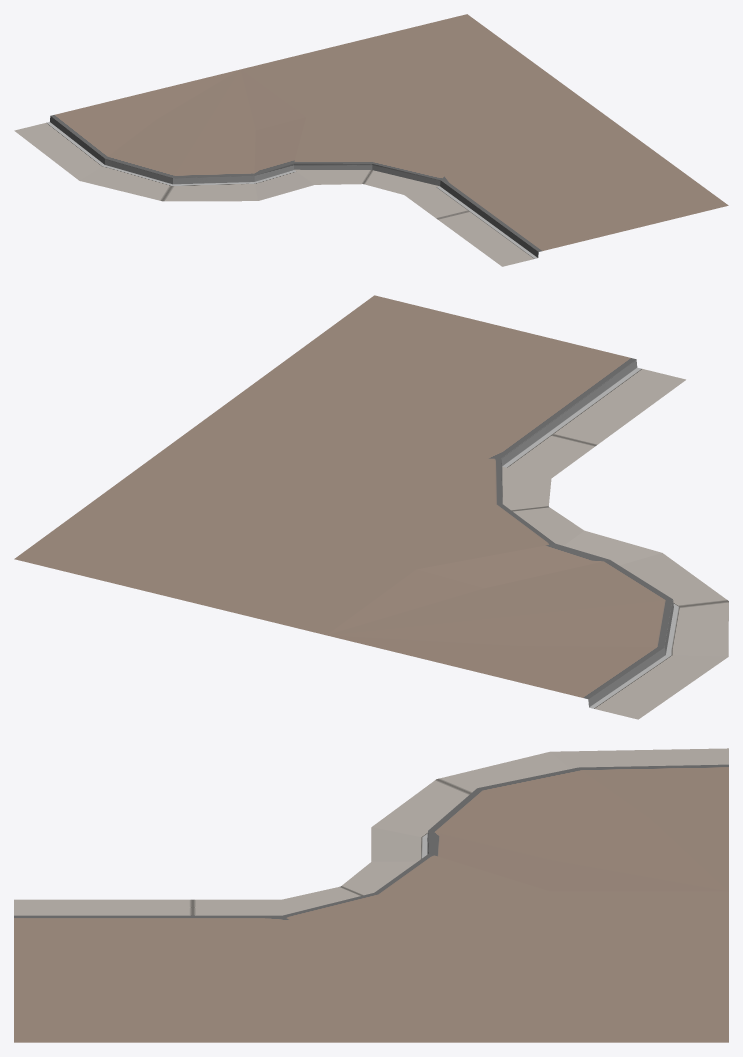
The model's file is island_curve_small.fbx.
3 renders of one model, top to bottom at view 1: azimuth 30°, elevation 25°; view 2: azimuth 150°, elevation 25°; view 3: azimuth 270°, elevation 25°, orthographic. The views are drawn at different scales.
Parts seen in each view (by area): view 1: island_tile_straight1; view 2: island_tile_straight1; view 3: island_tile_straight1.
Boxes of the visible parts, <box> form: island_tile_straight1: <box>14,14,728,266</box>; island_tile_straight1: <box>14,295,728,719</box>; island_tile_straight1: <box>14,748,728,1042</box>.
Size of the model in its own units: 4 by 0.0699 by 4.
